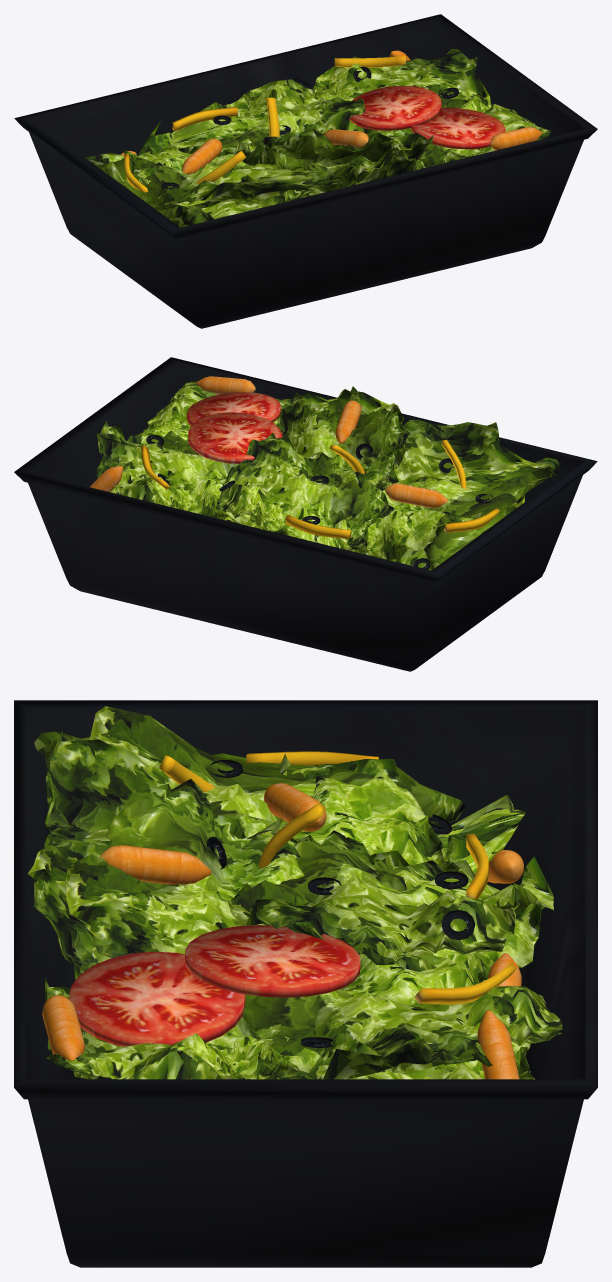
The model's file is salad.fbx.
3 views of the same model, one above another, from view 1: azimuth 30°, elevation 25°; view 2: azimuth 150°, elevation 25°; view 3: azimuth 270°, elevation 25° (orthographic). The views are drawn at different scales.
Visible parts, largest first — view 1: Container__exterior_, lettuce_001, Container__interior_, Tomatoes, Yellow_Bell_Peppers, Carrots, Olives; view 2: Container__exterior_, lettuce_001, Container__interior_, Tomatoes, Carrots, Yellow_Bell_Peppers, Olives; view 3: lettuce_001, Container__exterior_, Container__interior_, Tomatoes, Carrots, Yellow_Bell_Peppers, Olives.
Part boxes in pixels (x1,y1,x2,y2): Container__exterior_: (14,14,597,328); lettuce_001: (86,49,551,227); Container__interior_: (27,19,584,228); Tomatoes: (349,85,505,149); Yellow_Bell_Peppers: (124,56,406,192); Carrots: (120,50,542,174); Olives: (161,66,459,189); Container__exterior_: (14,357,597,671); lettuce_001: (96,380,559,570); Container__interior_: (27,362,584,571); Tomatoes: (186,392,282,463); Carrots: (89,376,448,508); Yellow_Bell_Peppers: (141,439,499,538); Olives: (146,435,492,569); lettuce_001: (28,706,562,1079); Container__exterior_: (14,700,597,1267); Container__interior_: (26,709,585,1079); Tomatoes: (69,925,360,1046); Carrots: (42,783,523,1079); Yellow_Bell_Peppers: (159,751,516,1004); Olives: (207,760,475,1047).
Size of the model in its own units: 1.28 by 0.4388 by 0.8154.
